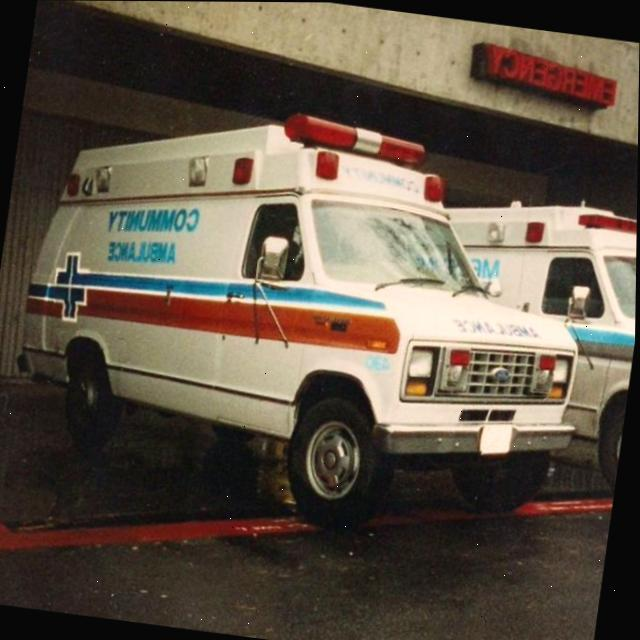emergency: (217, 98, 621, 560)
